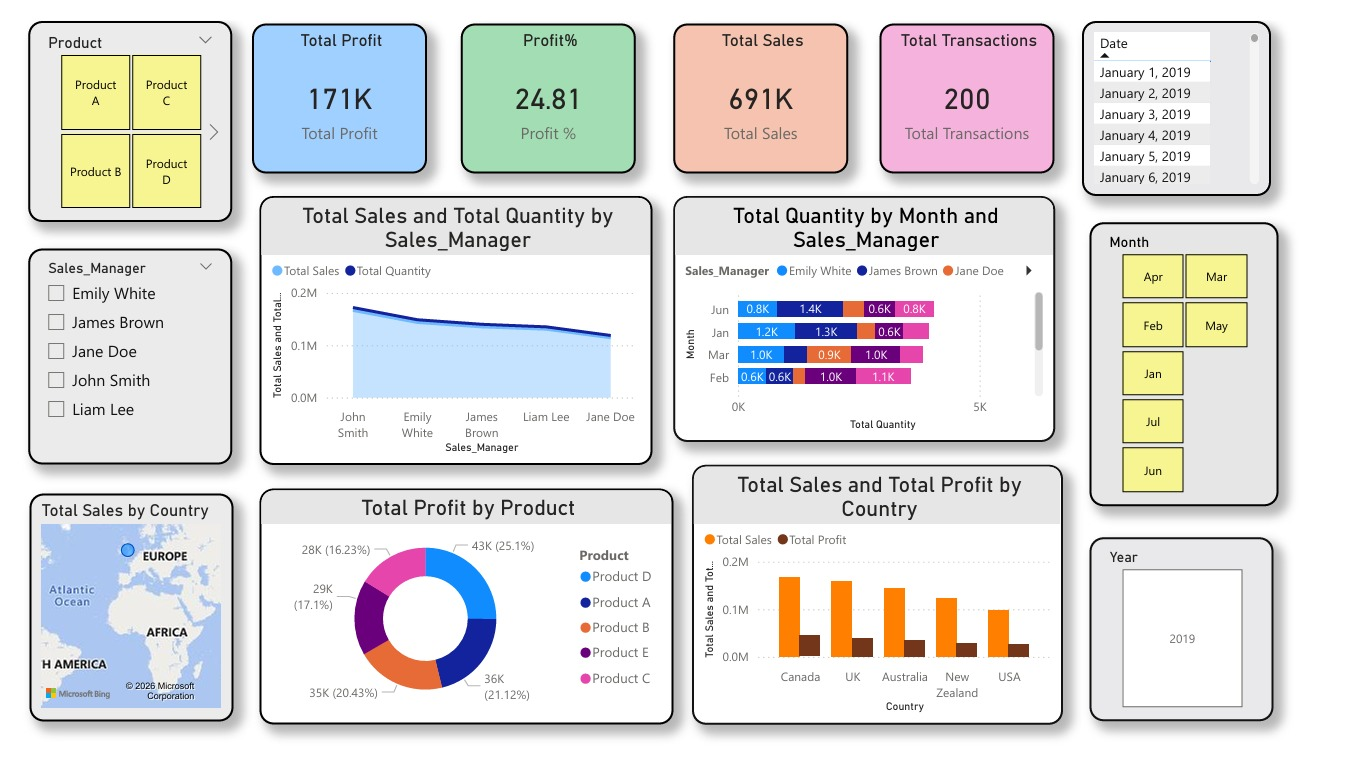

What the dashboard file says about the page in this screenshot:
{"tool":"powerbi","page":{"name":"Page 1","canvas":[1280,720],"ordinal":0},"visuals":[{"type":"tableEx","fields":{"Values":["Sales_Data.Date"]},"box":[1065,0,188.8,175],"z":0},{"type":"card","title":"Total Transactions","fields":{"Values":["Sales_Data.Total Transactions"]},"box":[862.5,2.5,175,150],"z":1000},{"type":"card","title":"Total Sales","fields":{"Values":["Sales_Data.Total Sales"]},"box":[656.2,2.5,175,150],"z":2000},{"type":"card","title":"Total Profit","fields":{"Values":["Sales_Data.Total Profit"]},"box":[235,2.5,175,150],"z":3000},{"type":"card","title":"Profit%","fields":{"Values":["Sales_Data.Profit %"]},"box":[443.8,2.5,175,150],"z":4000},{"type":"barChart","fields":{"Category":["Sales_Data.Month"],"Y":["Sales_Data.Total Quantity"],"Series":["Sales_Data.Sales_Manager"]},"box":[656.1,174.5,381.6,245.9],"z":5000},{"type":"stackedAreaChart","fields":{"Category":["Sales_Data.Sales_Manager"],"Y":["Sales_Data.Total Sales","Sales_Data.Total Quantity"]},"box":[242.9,174.5,392.9,269.4],"z":6000},{"type":"donutChart","fields":{"Category":["Sales_Data.Product"],"Y":["Sales_Data.Total Profit"]},"box":[242.5,467.5,413.8,236.2],"z":7000},{"type":"clusteredColumnChart","fields":{"Category":["Sales_Data.Country"],"Y":["Sales_Data.Total Sales","Sales_Data.Total Profit"]},"box":[675,443.8,371.2,260],"z":8000},{"type":"slicer","fields":{"Values":["Sales_Data.Product"]},"box":[11.2,0,203.8,201.2],"z":9000},{"type":"slicer","fields":{"Values":["Sales_Data.Year"]},"box":[1072.5,516.2,183.8,183.8],"z":10000},{"type":"map","fields":{"Category":["Sales_Data.Country"],"Size":["Sales_Data.Total Sales"]},"box":[12.5,472.5,203.8,227.5],"z":11000},{"type":"slicer","fields":{"Values":["Sales_Data.Sales_Manager"]},"box":[11.2,227.5,203.8,216.2],"z":12000},{"type":"slicer","fields":{"Values":["Sales_Data.Month"]},"box":[1072.5,201.2,188.8,283.8],"z":13000}]}

Visuals, with their boxes in screenshot pixels (x1, y1, x2, y2), scaled from the page's 1280x720 canvas onto the 1348x758 screenshot:
tableEx - Sales_Data.Date: {"left": 1122, "top": 0, "right": 1320, "bottom": 184}
"Total Transactions" card: {"left": 908, "top": 3, "right": 1093, "bottom": 161}
"Total Sales" card: {"left": 691, "top": 3, "right": 875, "bottom": 161}
"Total Profit" card: {"left": 247, "top": 3, "right": 432, "bottom": 161}
"Profit%" card: {"left": 467, "top": 3, "right": 652, "bottom": 161}
barChart - Sales_Data.Month x Sales_Data.Total Quantity: {"left": 691, "top": 184, "right": 1093, "bottom": 443}
stackedAreaChart - Sales_Data.Sales_Manager x Sales_Data.Total Sales: {"left": 256, "top": 184, "right": 670, "bottom": 467}
donutChart - Sales_Data.Product x Sales_Data.Total Profit: {"left": 255, "top": 492, "right": 691, "bottom": 741}
clusteredColumnChart - Sales_Data.Country x Sales_Data.Total Sales: {"left": 711, "top": 467, "right": 1102, "bottom": 741}
slicer - Sales_Data.Product: {"left": 12, "top": 0, "right": 226, "bottom": 212}
slicer - Sales_Data.Year: {"left": 1129, "top": 543, "right": 1323, "bottom": 737}
map - Sales_Data.Country x Sales_Data.Total Sales: {"left": 13, "top": 497, "right": 228, "bottom": 737}
slicer - Sales_Data.Sales_Manager: {"left": 12, "top": 240, "right": 226, "bottom": 467}
slicer - Sales_Data.Month: {"left": 1129, "top": 212, "right": 1328, "bottom": 511}
